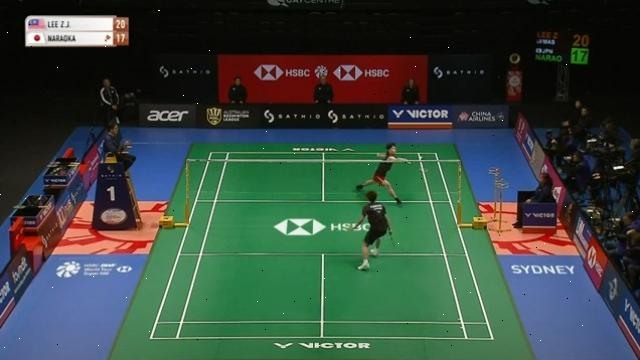Shuttlecock: (417, 152, 425, 160)
